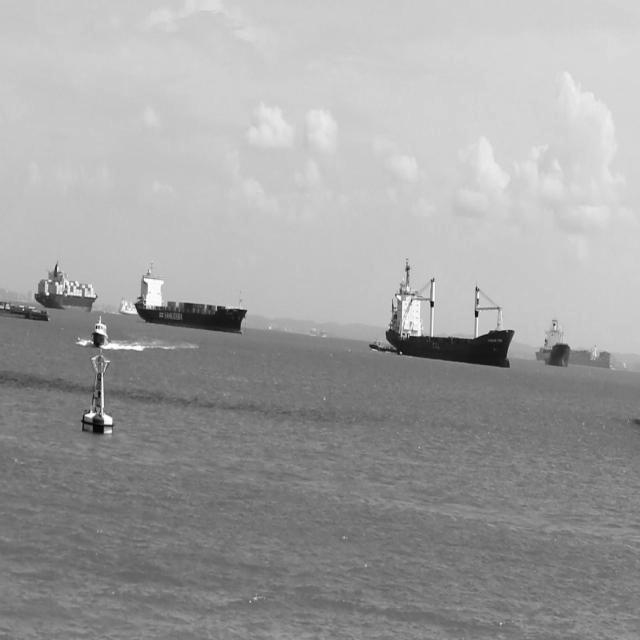buoy: (80, 350, 114, 434)
ship: (384, 256, 516, 370), (134, 262, 248, 336), (33, 258, 98, 314), (534, 346, 612, 369), (542, 314, 571, 369), (0, 299, 49, 323), (92, 314, 110, 348), (368, 338, 398, 353), (117, 298, 138, 316)
